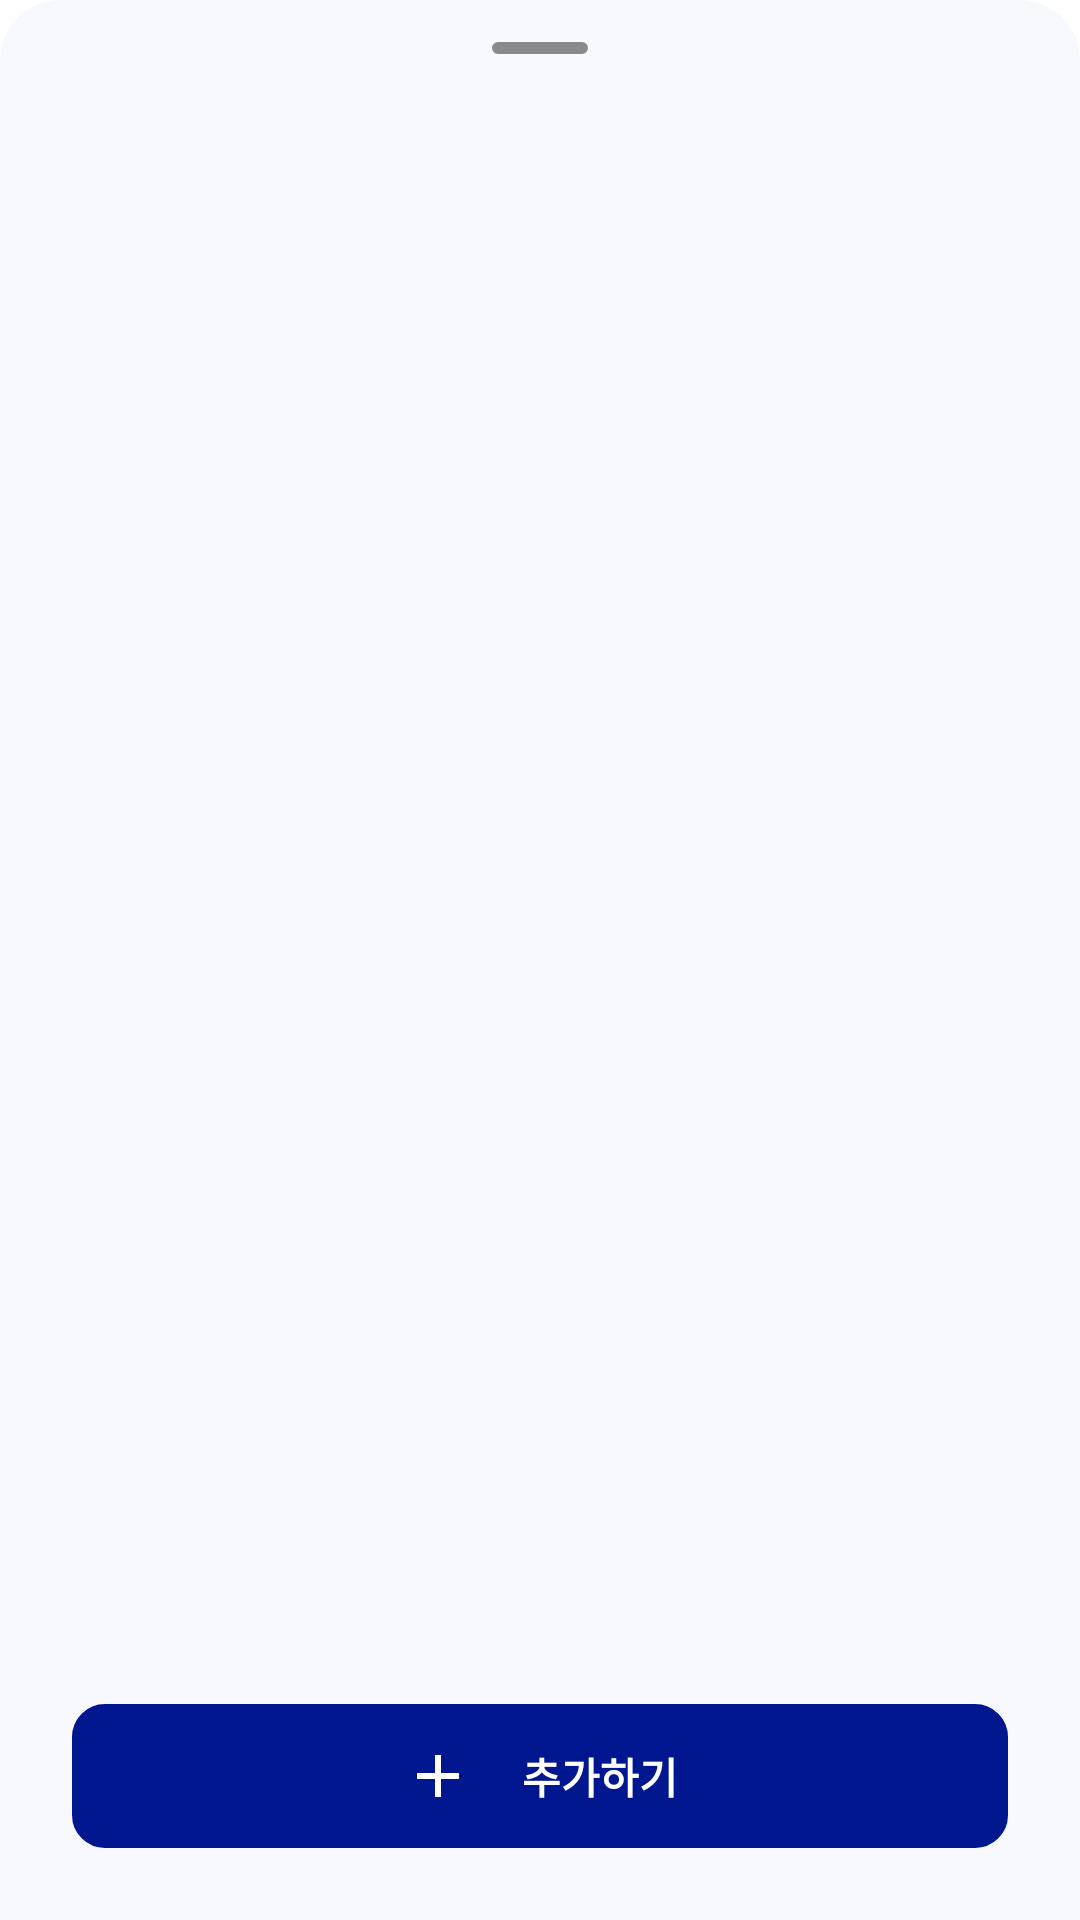

Icons on this 1080 x 1920 Android screen, each with the point to tap as (x,y):
add: (438,1776)
